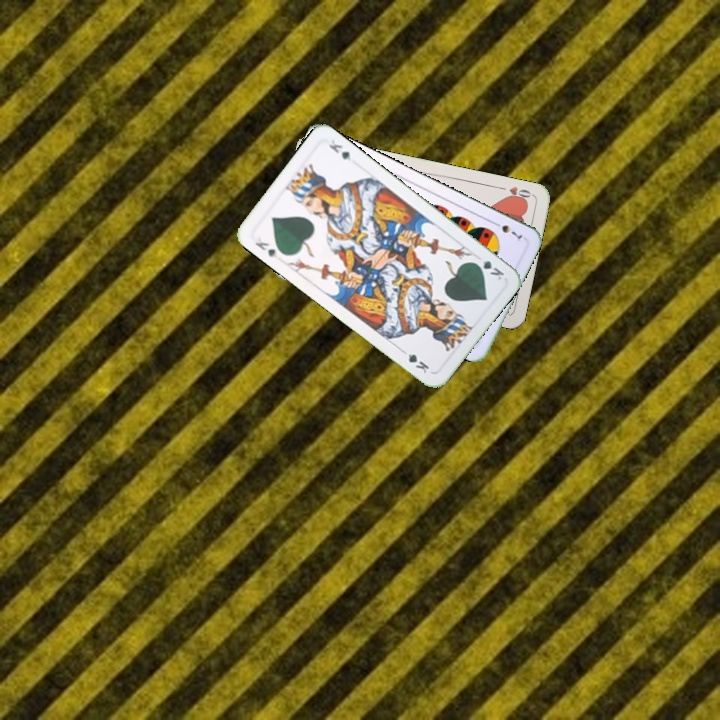GK: (469, 255, 507, 283), (251, 238, 280, 261)
HO: (495, 183, 535, 204)
S7: (489, 217, 524, 244)
